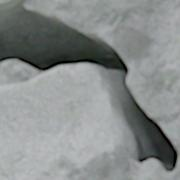brick: (0, 64, 128, 179), (0, 0, 19, 5)
crack: (0, 1, 179, 178)
